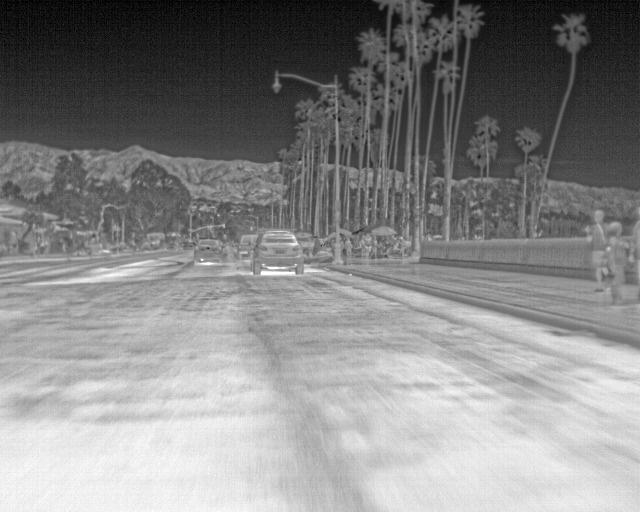bicycle: (253, 226, 305, 275), (194, 238, 228, 264), (238, 234, 257, 263), (142, 230, 164, 252)
empty: (583, 208, 610, 290), (604, 219, 625, 302), (626, 218, 639, 280)
